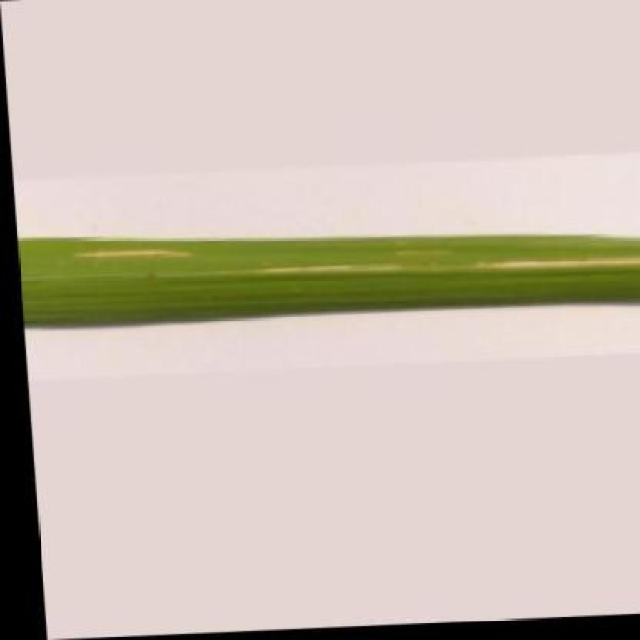Brown_Spot: (14, 215, 640, 332)
